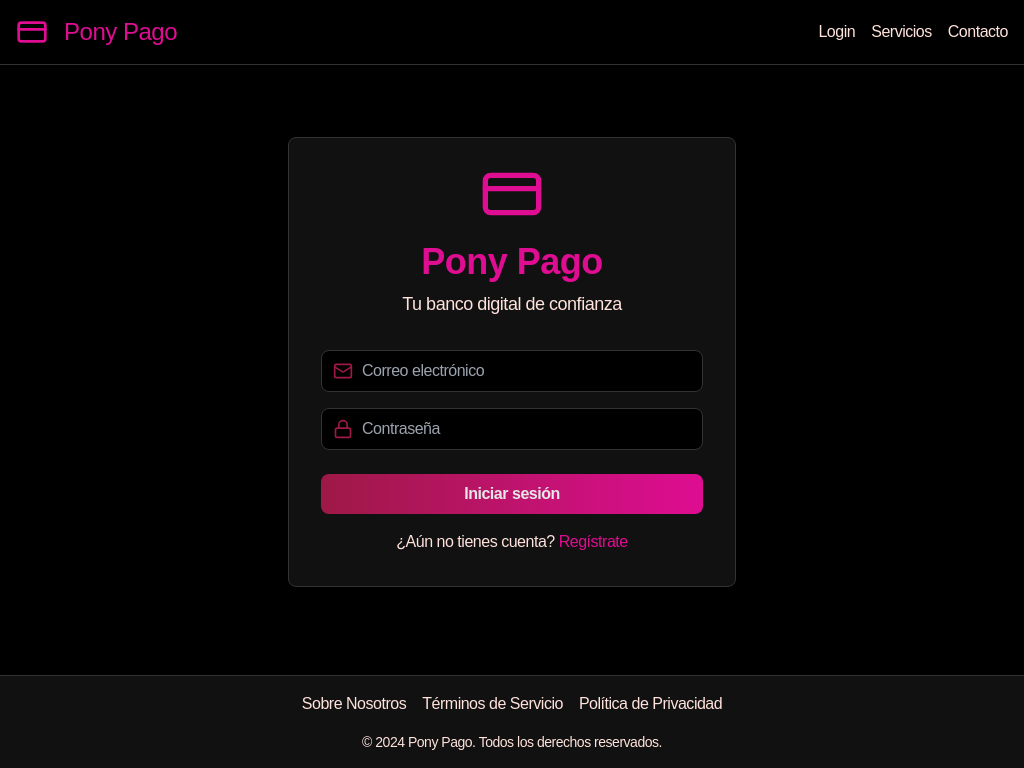
Signin Component › should show an error message when form is submitted with empty fields
Step 1. Type "1@gmail.com" into the field with placeholder "Correo electrónico" → (512, 371), box [321,350,703,392]
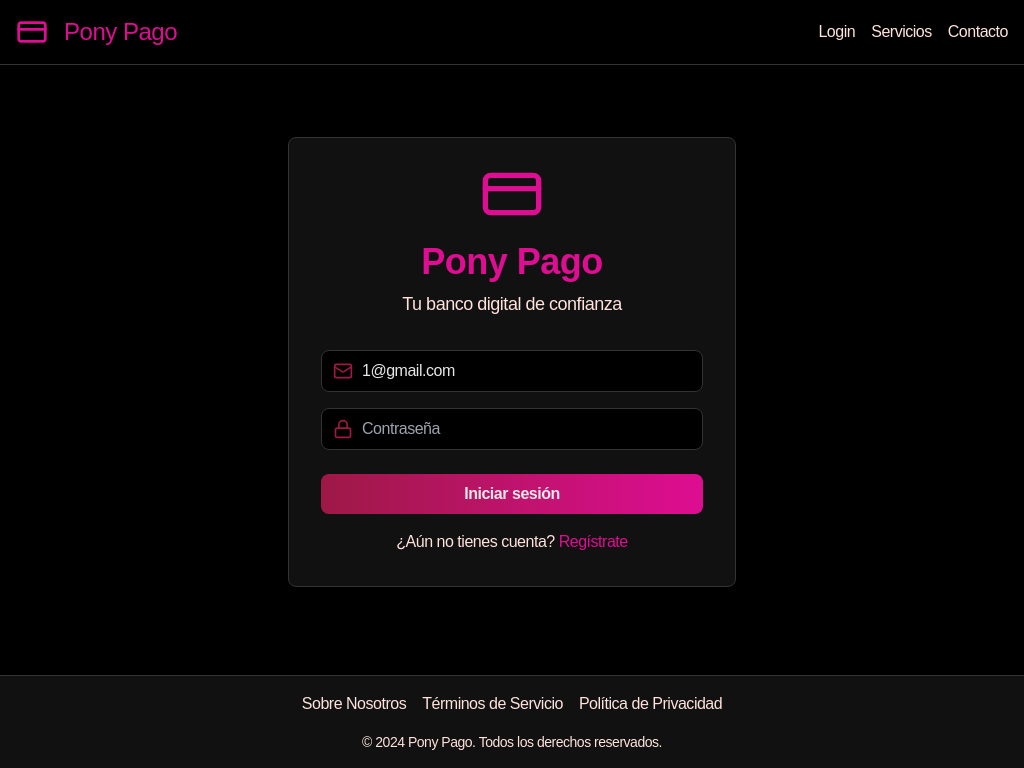
Step 2. Type "a" into the password field with placeholder "Contraseña" → (512, 429), box [321,408,703,450]
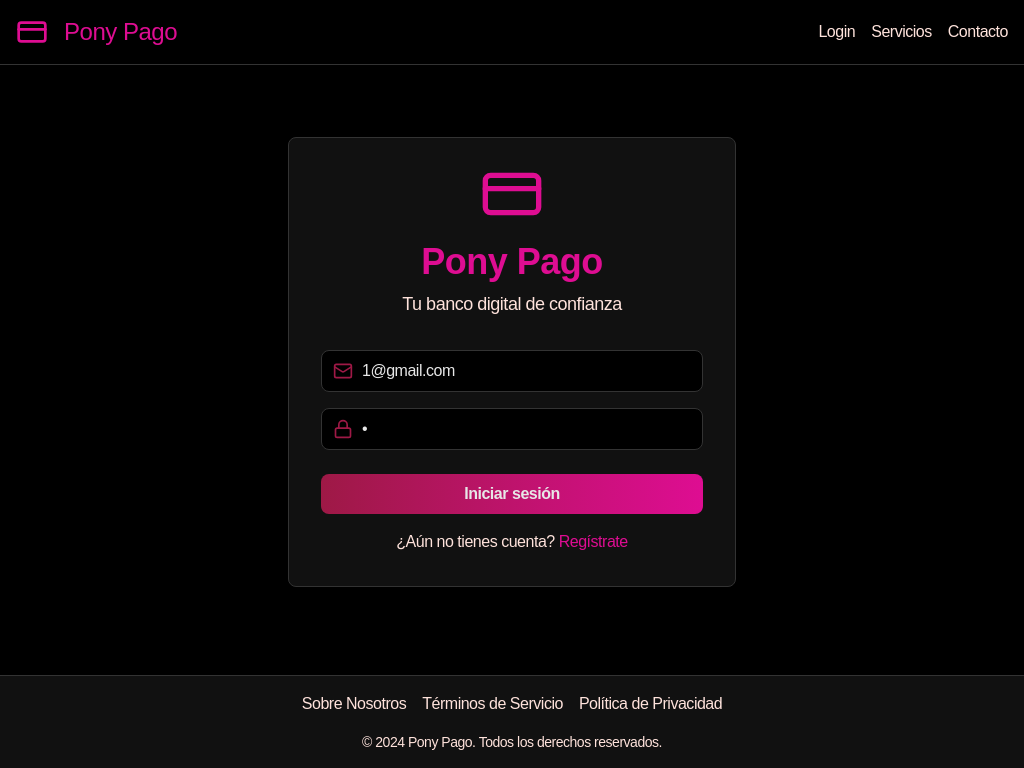
Step 3. Click the button "Iniciar sesión" → (512, 494), box [321,474,703,514]
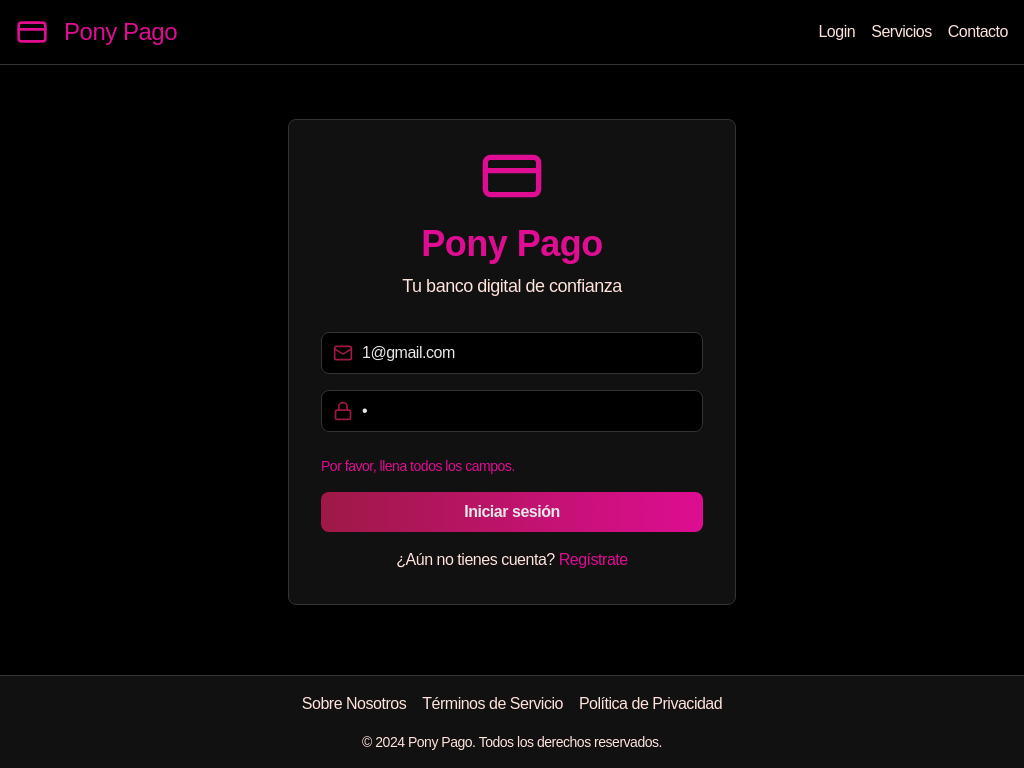
Now the text "Por favor, llena todos los campos." is shown, box [321,458,515,474]
